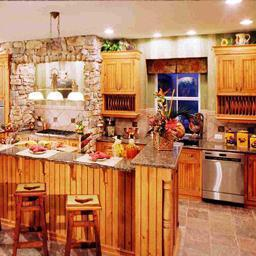Electrodomestico: (204, 149, 245, 204)
